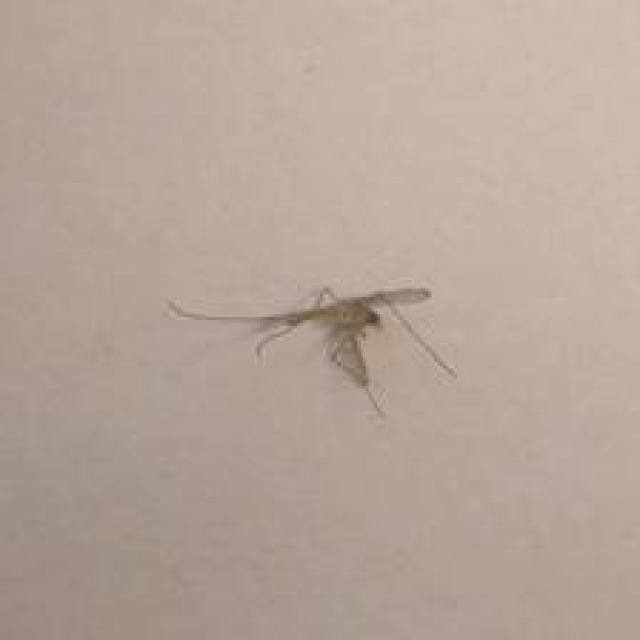Culex: (164, 282, 459, 418)
